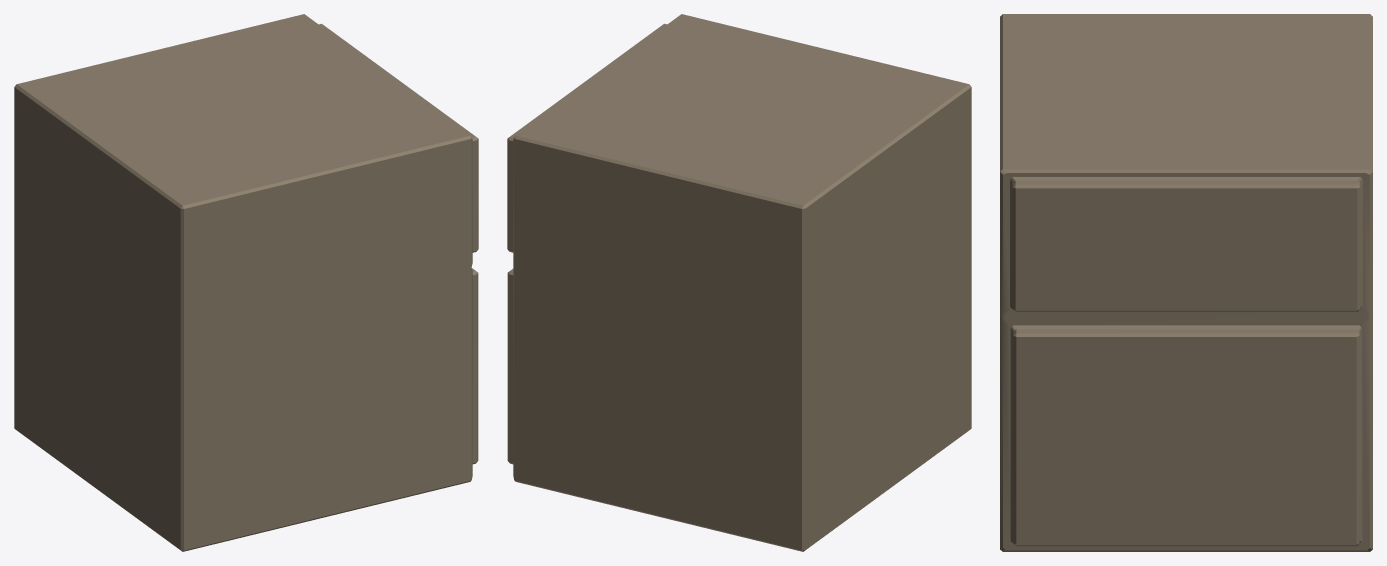
File: bedsidetable.fbx
3 views of the same model, side by side, from view 1: azimuth 30°, elevation 25°; view 2: azimuth 150°, elevation 25°; view 3: azimuth 270°, elevation 25° (orthographic). The views are drawn at different scales.
Visible parts, largest first — view 1: pCube11; view 2: pCube11; view 3: pCube11.
Part boxes in pixels (box(x1,y1,x2,y2)): pCube11: box(14, 14, 478, 551); pCube11: box(507, 14, 971, 551); pCube11: box(1000, 14, 1372, 551).
Size of the model in its own units: 1.04 by 1.13 by 1.
